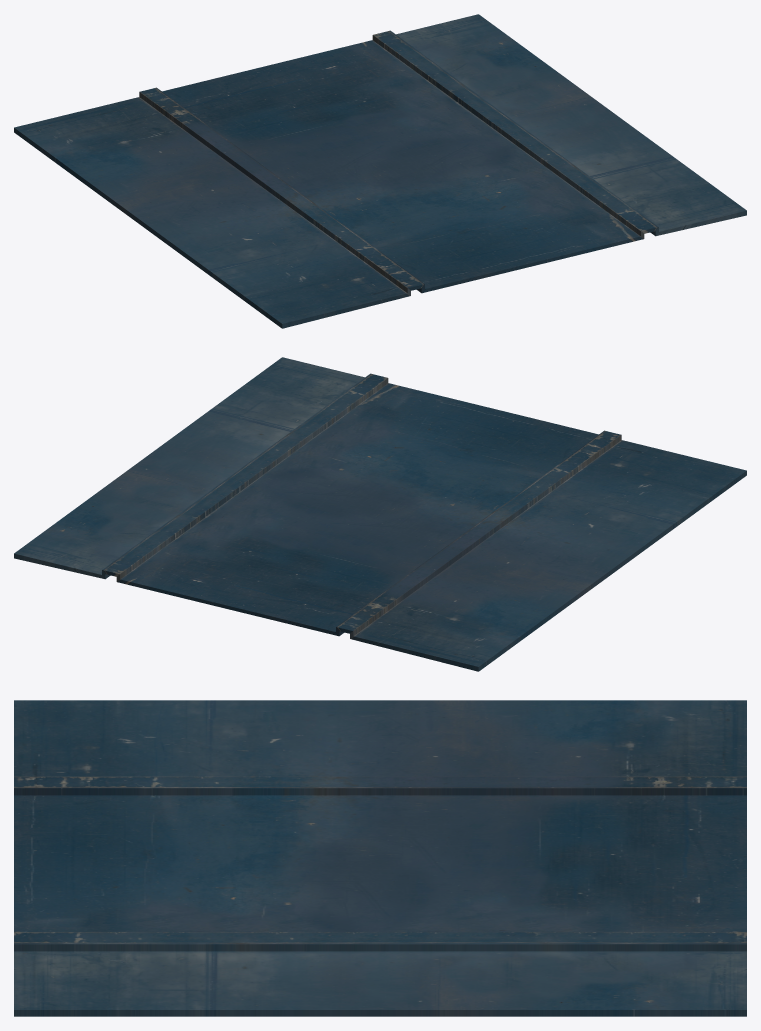
File: MetallplatteBlau.glb
3 renders of one model, top to bottom at view 1: azimuth 30°, elevation 25°; view 2: azimuth 150°, elevation 25°; view 3: azimuth 270°, elevation 25°, orthographic. The views are drawn at different scales.
Visible parts, largest first — view 1: Platte-col; view 2: Platte-col; view 3: Platte-col.
Part boxes in pixels (x1,y1,x2,y2): Platte-col: (14, 14, 746, 328); Platte-col: (14, 357, 746, 671); Platte-col: (14, 700, 746, 1016).
Size of the model in its own units: 2 by 0.0411 by 2.
Materials: 1 (1 with a texture image).
